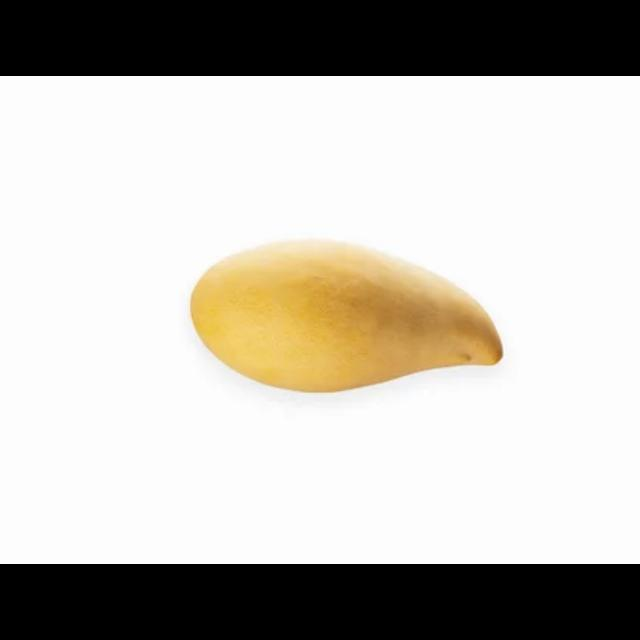mango: (191, 237, 502, 397)
